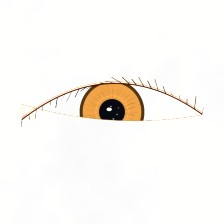pinguecula_lesion: (151, 96, 203, 137)
